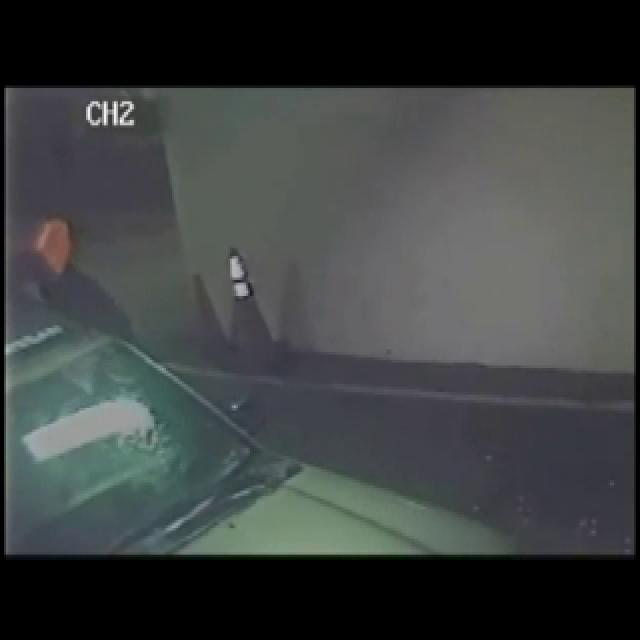arson: (22, 162, 217, 436)
